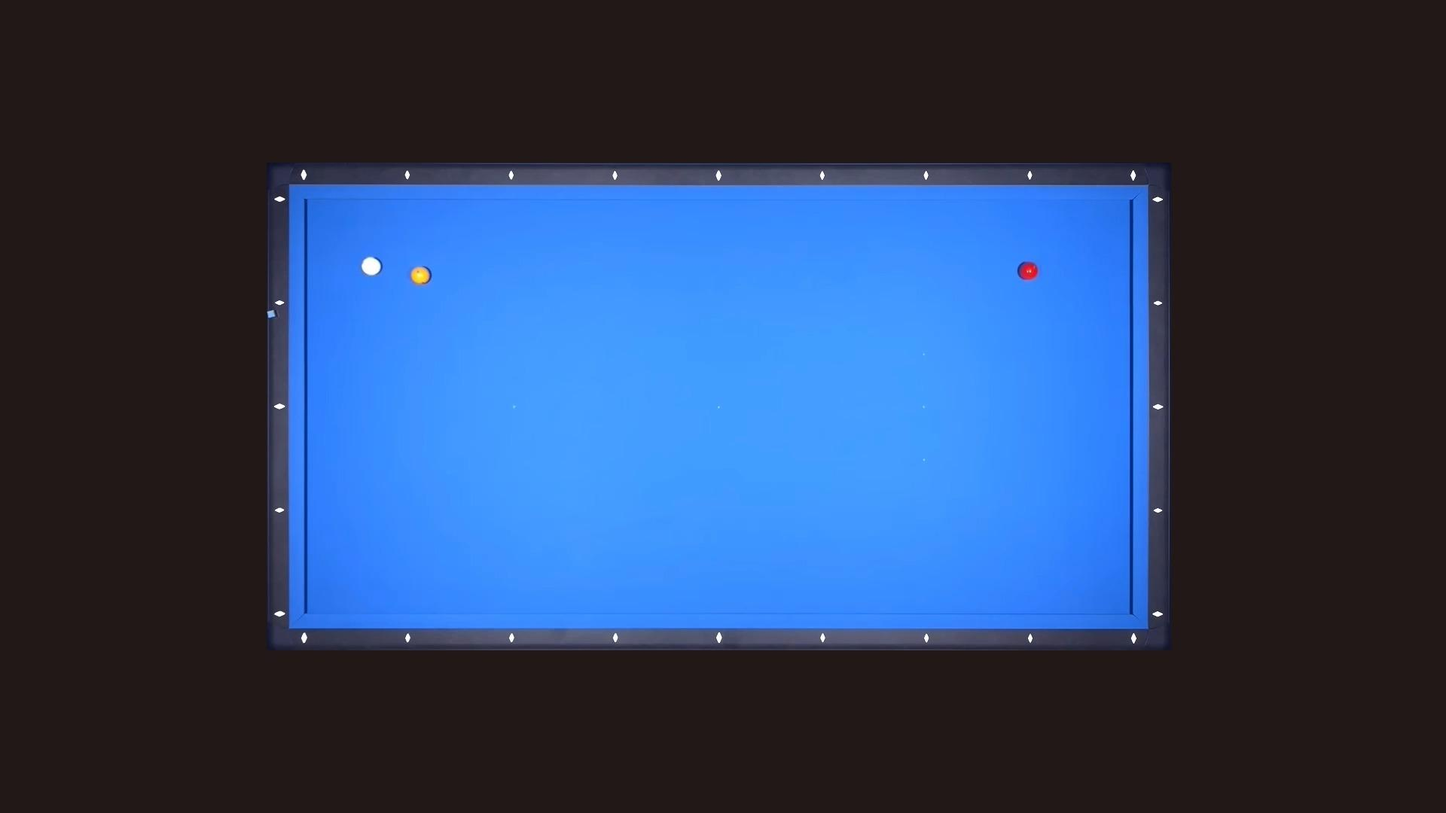Red: (1019, 263, 1044, 282)
White: (362, 258, 386, 278)
Yellow: (407, 266, 433, 286)
